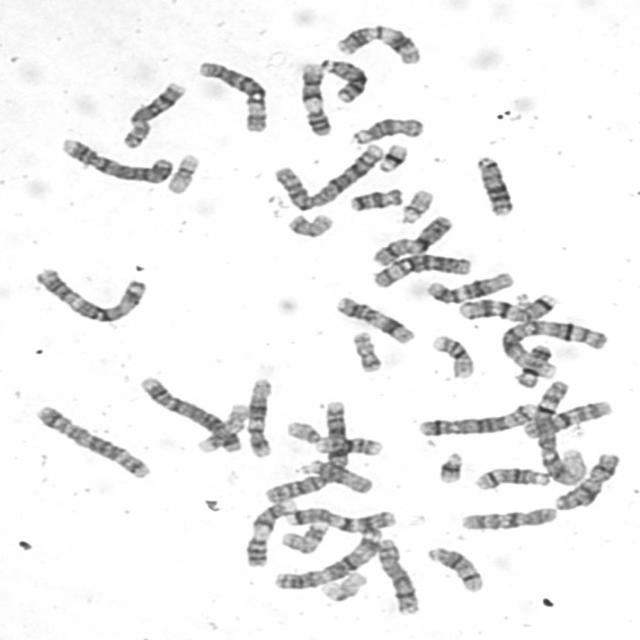A1: (497, 314, 611, 386), (528, 374, 588, 487)
A2: (260, 396, 351, 504), (268, 139, 386, 211)
A3: (268, 522, 386, 592), (29, 262, 149, 324)
B4: (134, 372, 244, 454), (55, 132, 175, 185)
B5: (29, 400, 153, 481), (414, 398, 538, 438)
C10: (516, 395, 615, 440), (455, 502, 559, 532)
C11: (329, 291, 418, 346), (330, 20, 423, 66)
C12: (422, 266, 516, 304), (241, 374, 275, 458)
C6: (192, 56, 270, 134), (366, 249, 473, 289)
C7: (452, 289, 559, 323), (282, 502, 398, 532)
C8: (116, 76, 188, 150), (372, 534, 423, 616)
C9: (242, 496, 295, 568), (294, 58, 333, 137)
D13: (470, 150, 515, 218), (316, 53, 368, 105)
D14: (422, 541, 486, 594), (468, 462, 553, 492)
D15: (297, 456, 375, 494), (345, 112, 426, 145)
E16: (426, 330, 476, 380), (309, 432, 385, 458)
E17: (190, 399, 250, 454), (276, 518, 331, 555)
E18: (510, 340, 554, 389), (344, 183, 404, 213)
F19: (314, 566, 368, 604), (161, 149, 202, 195)
F20: (346, 326, 385, 374), (282, 208, 336, 239)
G21: (373, 138, 410, 174), (432, 446, 466, 485)
G22: (395, 184, 436, 224), (280, 416, 324, 445)
X: (366, 211, 454, 267), (548, 448, 623, 512)
